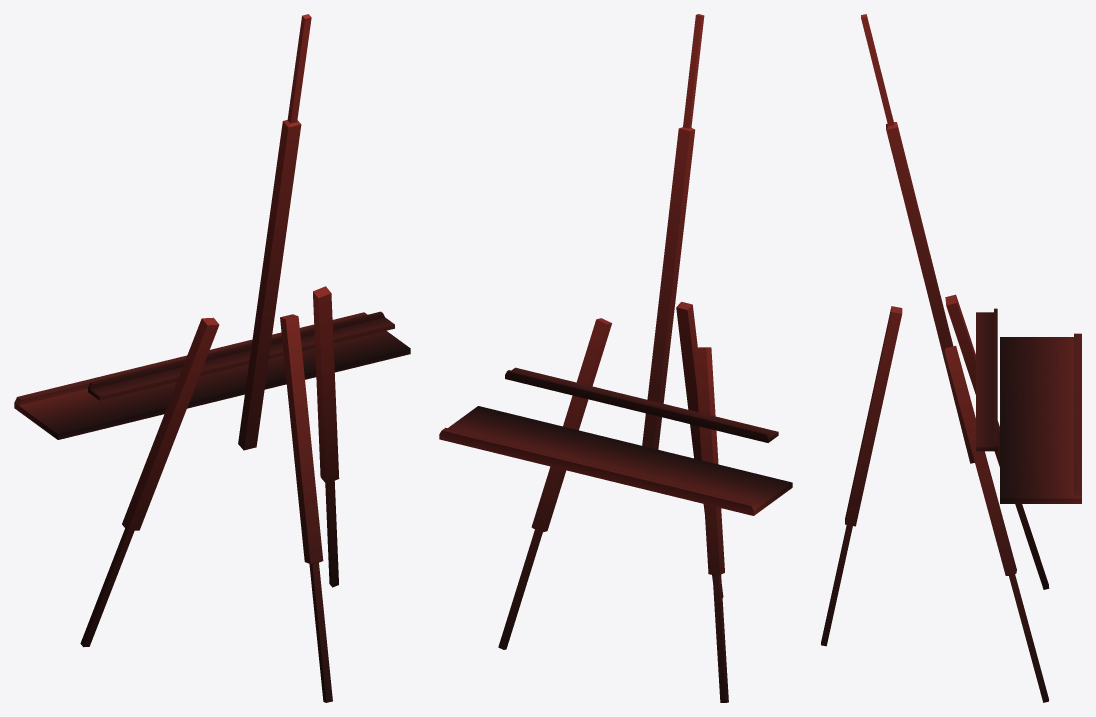
The model's file is M_Easel.fbx.
3 renders of one model, left to right at view 1: azimuth 30°, elevation 25°; view 2: azimuth 150°, elevation 25°; view 3: azimuth 270°, elevation 25°, orthographic. The views are drawn at different scales.
Visible parts, largest first — view 1: M_Easel; view 2: M_Easel; view 3: M_Easel.
Boxes of the visible parts, x1,y1,x2,y2 form: M_Easel: (14, 14, 410, 702); M_Easel: (439, 14, 792, 702); M_Easel: (821, 14, 1081, 702).
Bounding box in the file's own units: 13.1 × 23.83 × 8.94.
Materials: 1 (1 with a texture image).
